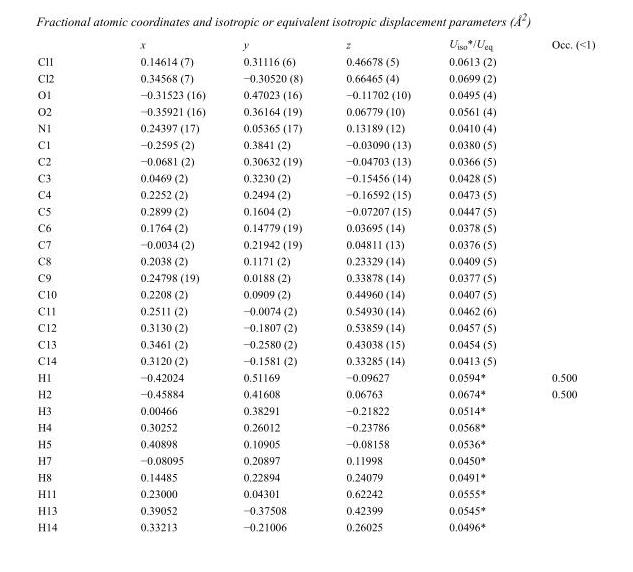table: (37, 36, 594, 532)
table column: (98, 36, 223, 532), (323, 36, 429, 532), (223, 36, 323, 532), (429, 36, 523, 532), (523, 36, 594, 532), (37, 36, 98, 532)
table column header: (37, 36, 594, 52)
table row: (37, 52, 594, 69), (37, 85, 594, 102), (37, 102, 594, 119), (37, 135, 594, 152), (37, 152, 594, 169), (37, 185, 594, 202), (37, 218, 594, 235), (37, 235, 594, 252), (37, 268, 594, 285), (37, 285, 594, 302), (37, 318, 594, 335), (37, 351, 594, 368), (37, 368, 594, 385), (37, 401, 594, 418), (37, 418, 594, 435), (37, 451, 594, 468), (37, 484, 594, 501), (37, 501, 594, 518), (37, 36, 594, 52), (37, 69, 594, 85), (37, 119, 594, 135), (37, 169, 594, 185), (37, 202, 594, 218), (37, 252, 594, 268), (37, 302, 594, 318), (37, 335, 594, 351), (37, 385, 594, 401), (37, 435, 594, 451), (37, 468, 594, 484), (37, 518, 594, 532)
